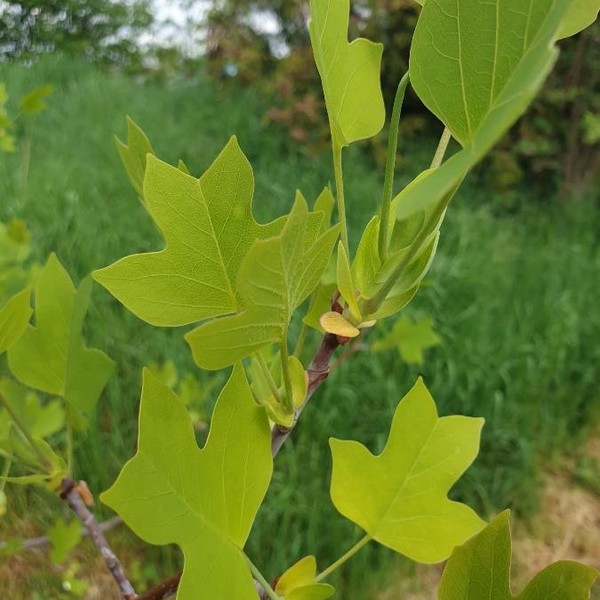obstacle: (94, 24, 496, 546)
